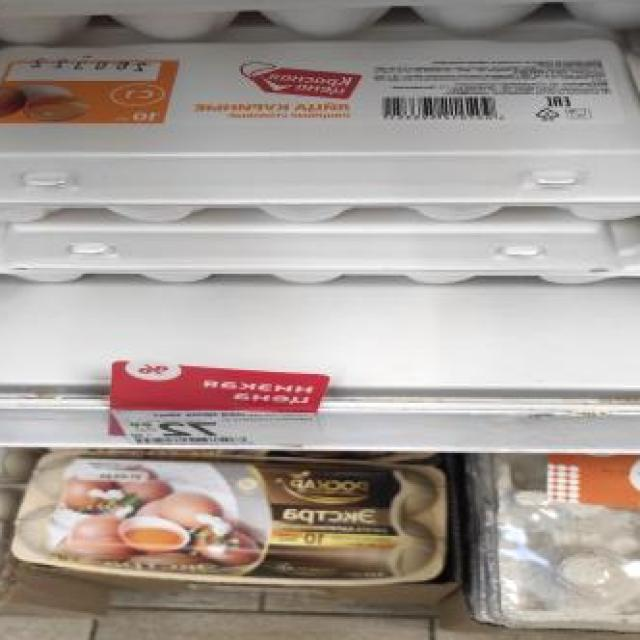egg: (0, 38, 640, 218), (11, 454, 448, 583)
